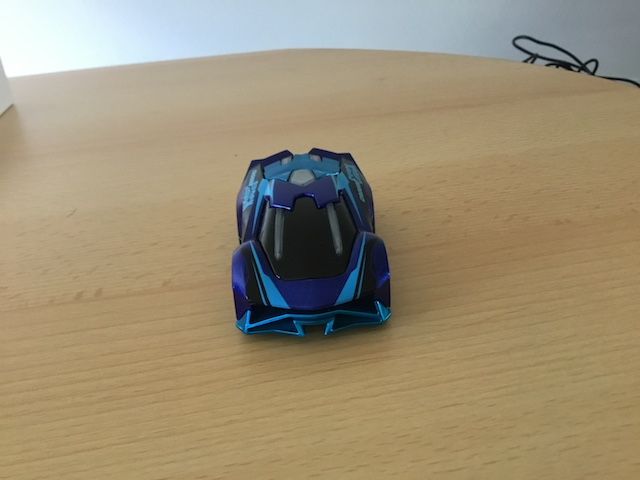car-blue: (229, 145, 396, 343)
